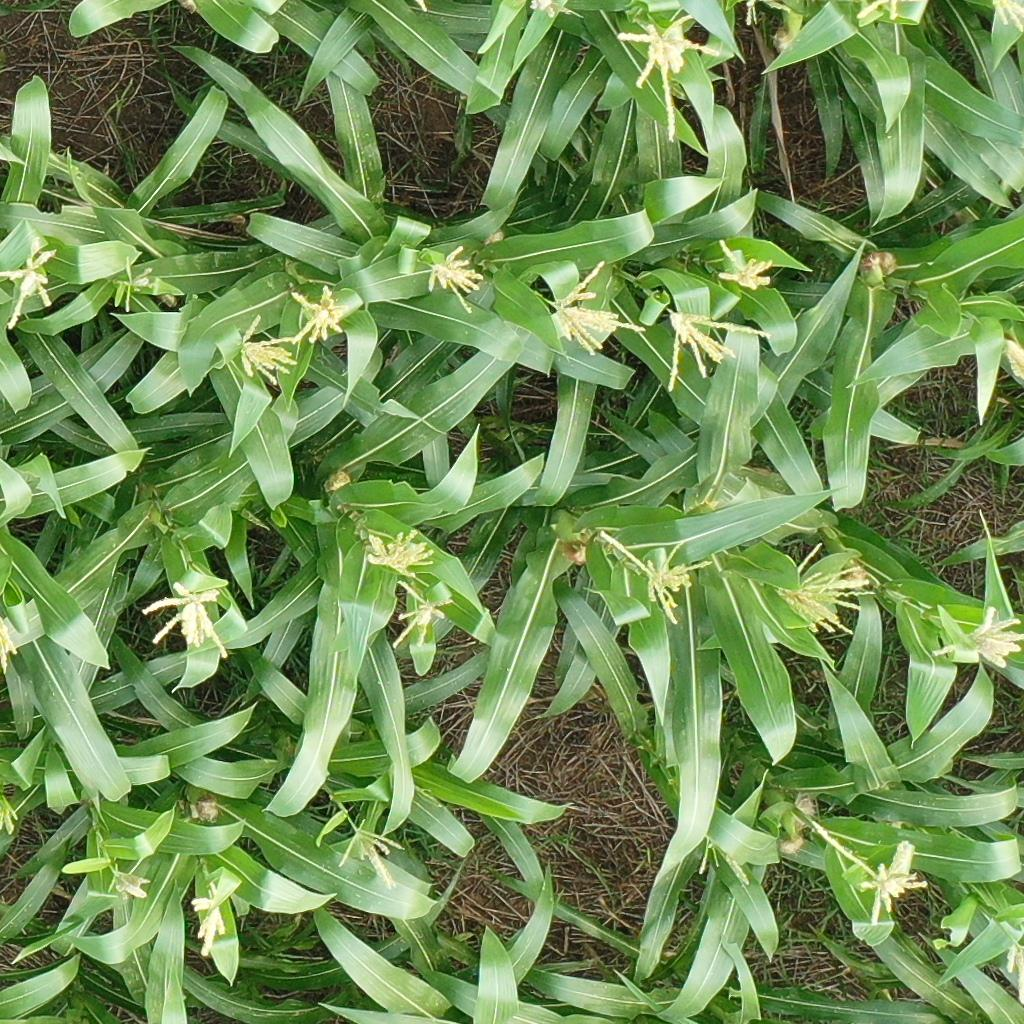Tassel: (614, 14, 726, 147), (813, 820, 928, 931), (598, 531, 713, 623), (774, 540, 876, 640), (552, 259, 647, 355), (666, 308, 772, 394), (140, 581, 233, 659), (930, 603, 1024, 671), (1, 234, 62, 332), (337, 820, 408, 891), (235, 312, 300, 386), (389, 581, 454, 655), (364, 524, 439, 583), (426, 245, 483, 311), (288, 283, 349, 343), (698, 834, 757, 885), (716, 238, 775, 287), (188, 895, 229, 960), (999, 933, 1024, 1003), (121, 258, 154, 311), (106, 868, 153, 901), (854, 1, 919, 22), (745, 1, 791, 28), (1, 615, 20, 671), (1001, 337, 1024, 381), (993, 1, 1024, 29), (1, 799, 19, 836), (528, 1, 562, 17)
